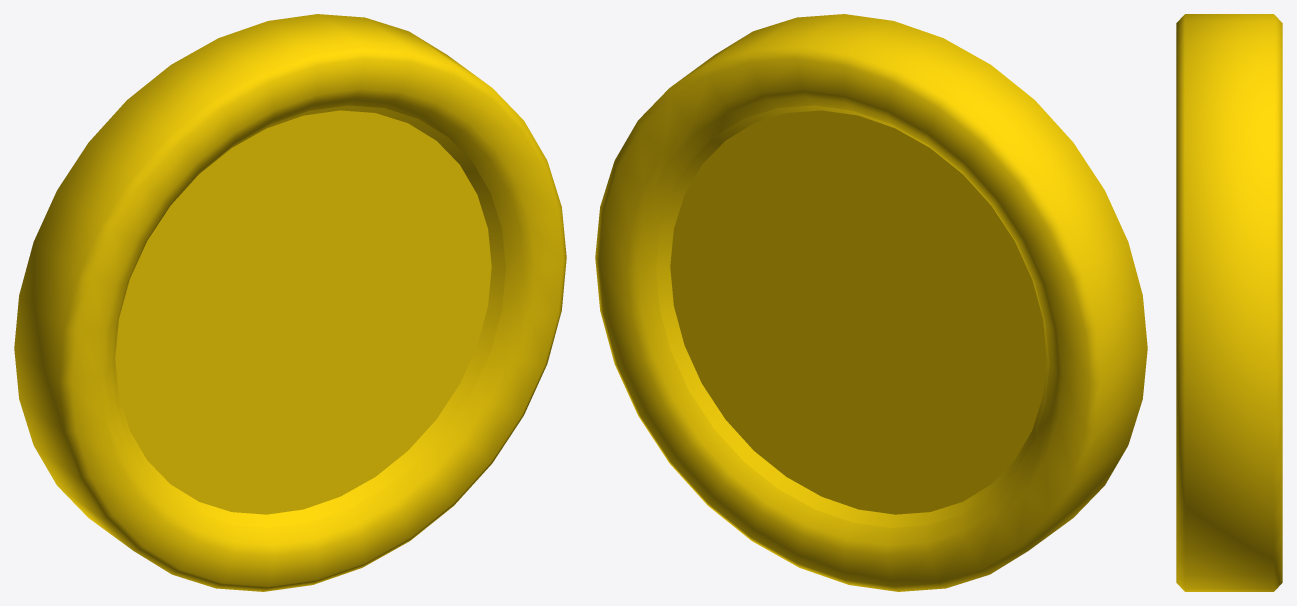
The model's file is Coin.fbx.
3 renders of one model, left to right at view 1: azimuth 30°, elevation 25°; view 2: azimuth 150°, elevation 25°; view 3: azimuth 270°, elevation 25°, orthographic.
Parts seen in each view (by area): view 1: Coin; view 2: Coin; view 3: Coin.
Boxes of the visible parts, x1,y1,x2,y2 form: Coin: (14, 14, 566, 591); Coin: (595, 14, 1147, 591); Coin: (1176, 14, 1282, 591).
Bounding box in the file's own units: 196 × 196 × 36.1.
